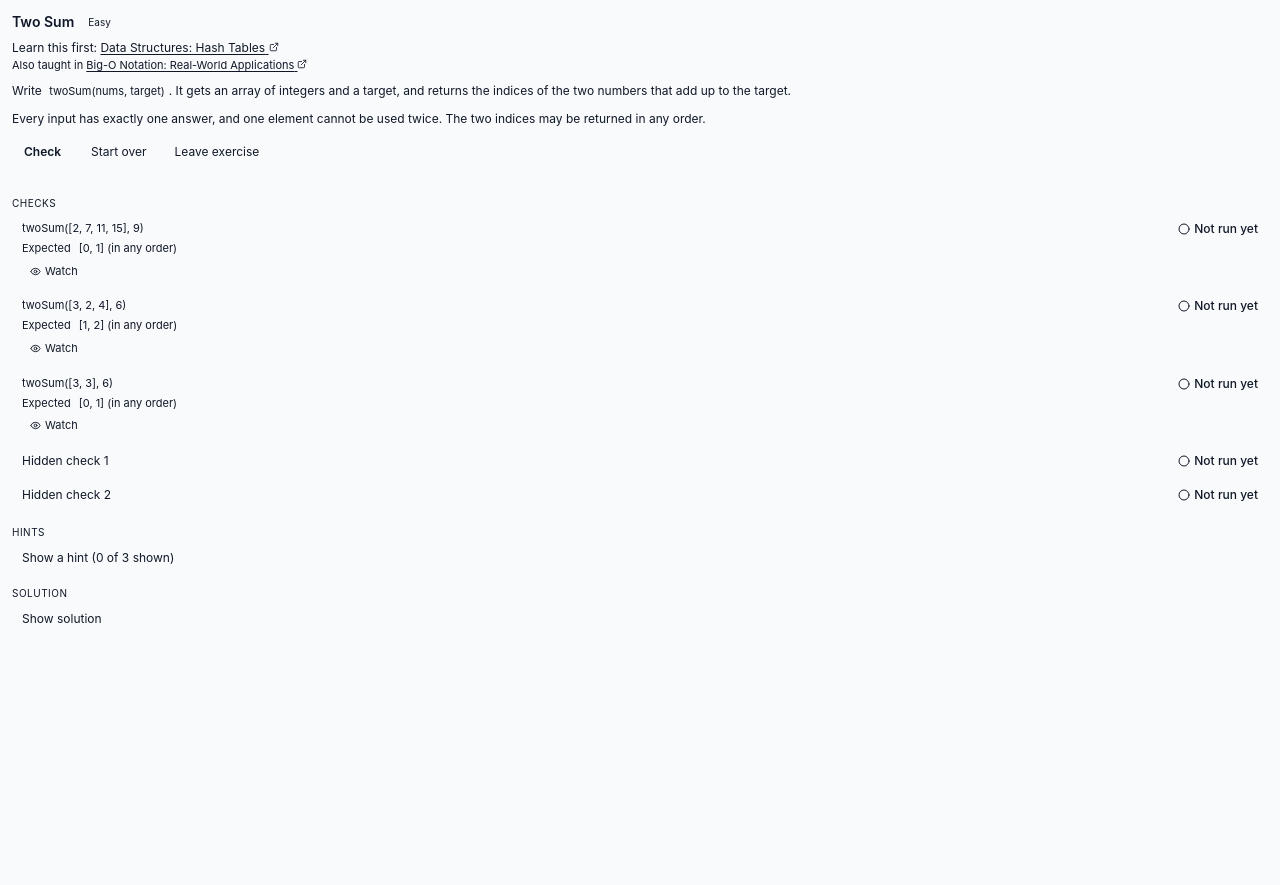
TaskPanel › the solution › opens without the question for a viewer who has seen it before
Click the button "Show solution": x=62, y=619 [12,607,112,631]
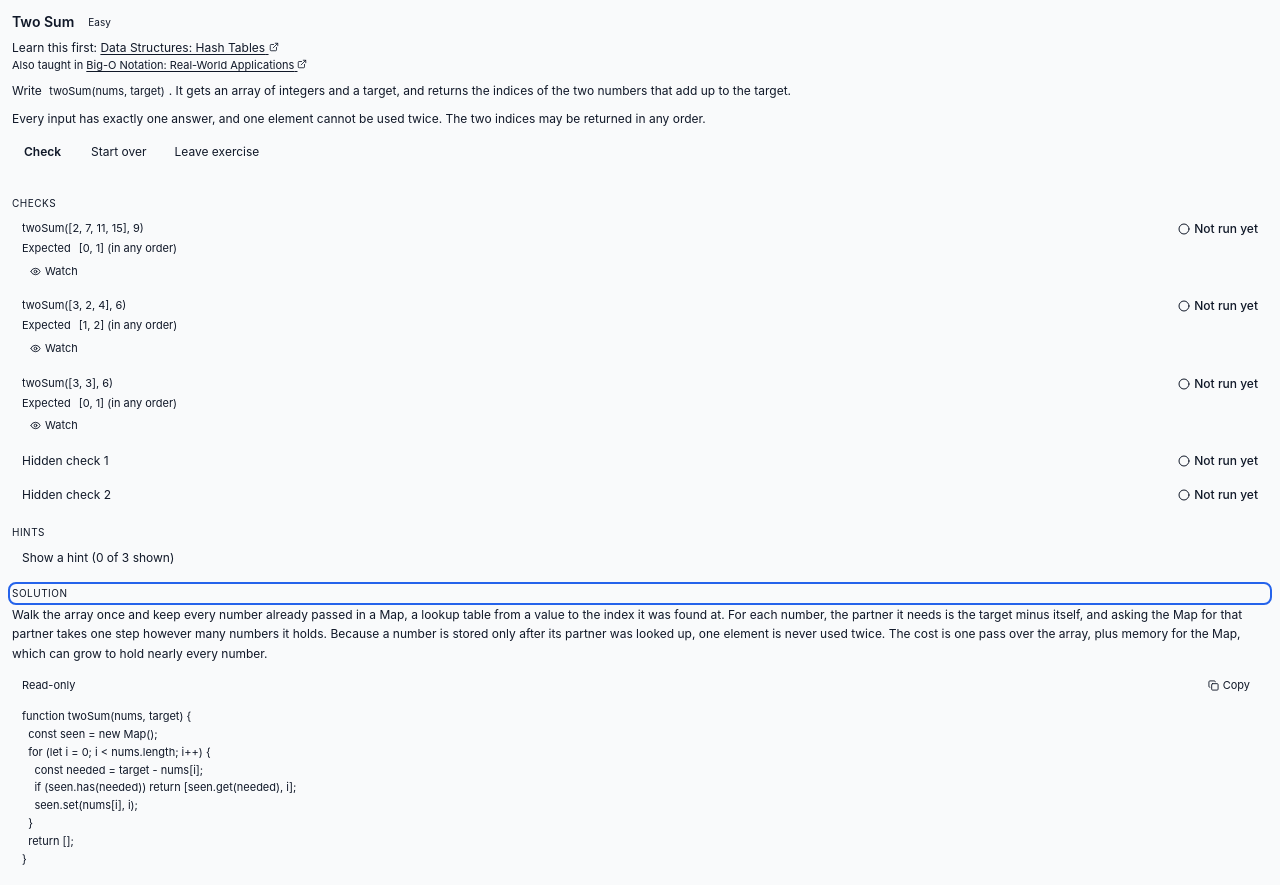
Result: the element named "Solution code, read-only" is shown at [22,709,296,866]
